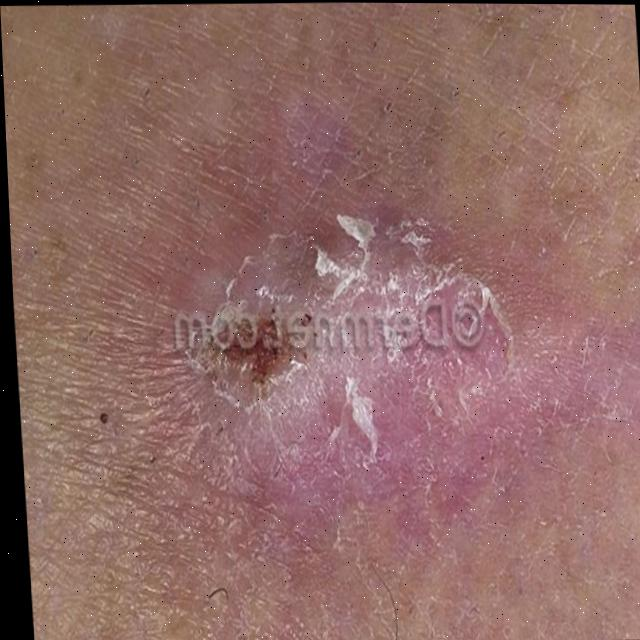Eczema: (187, 222, 509, 441)
